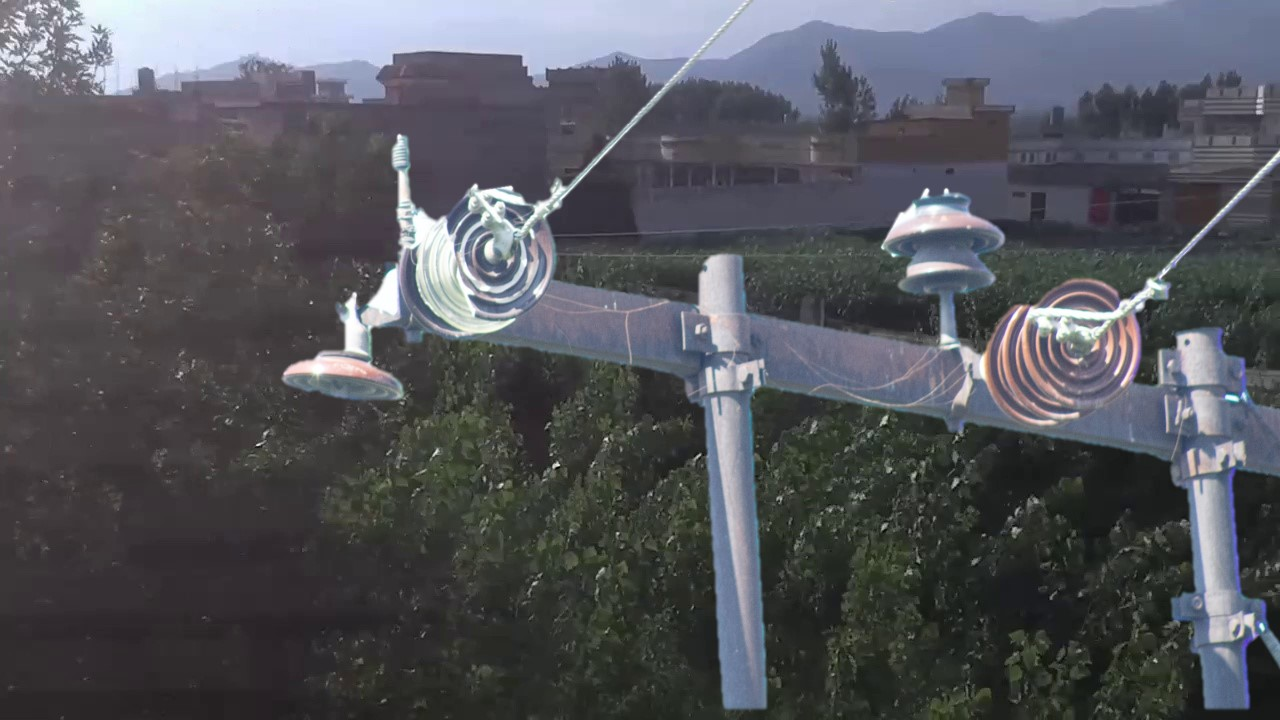defect_disc: (441, 175, 565, 329)
insulator_disc: (1018, 275, 1146, 414), (278, 337, 410, 411)
